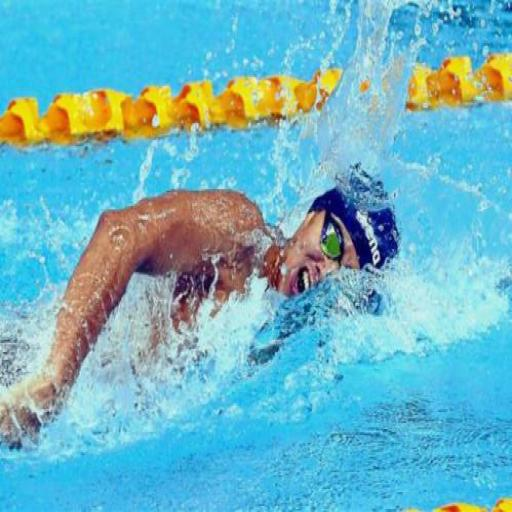swimming: (0, 160, 401, 455)
